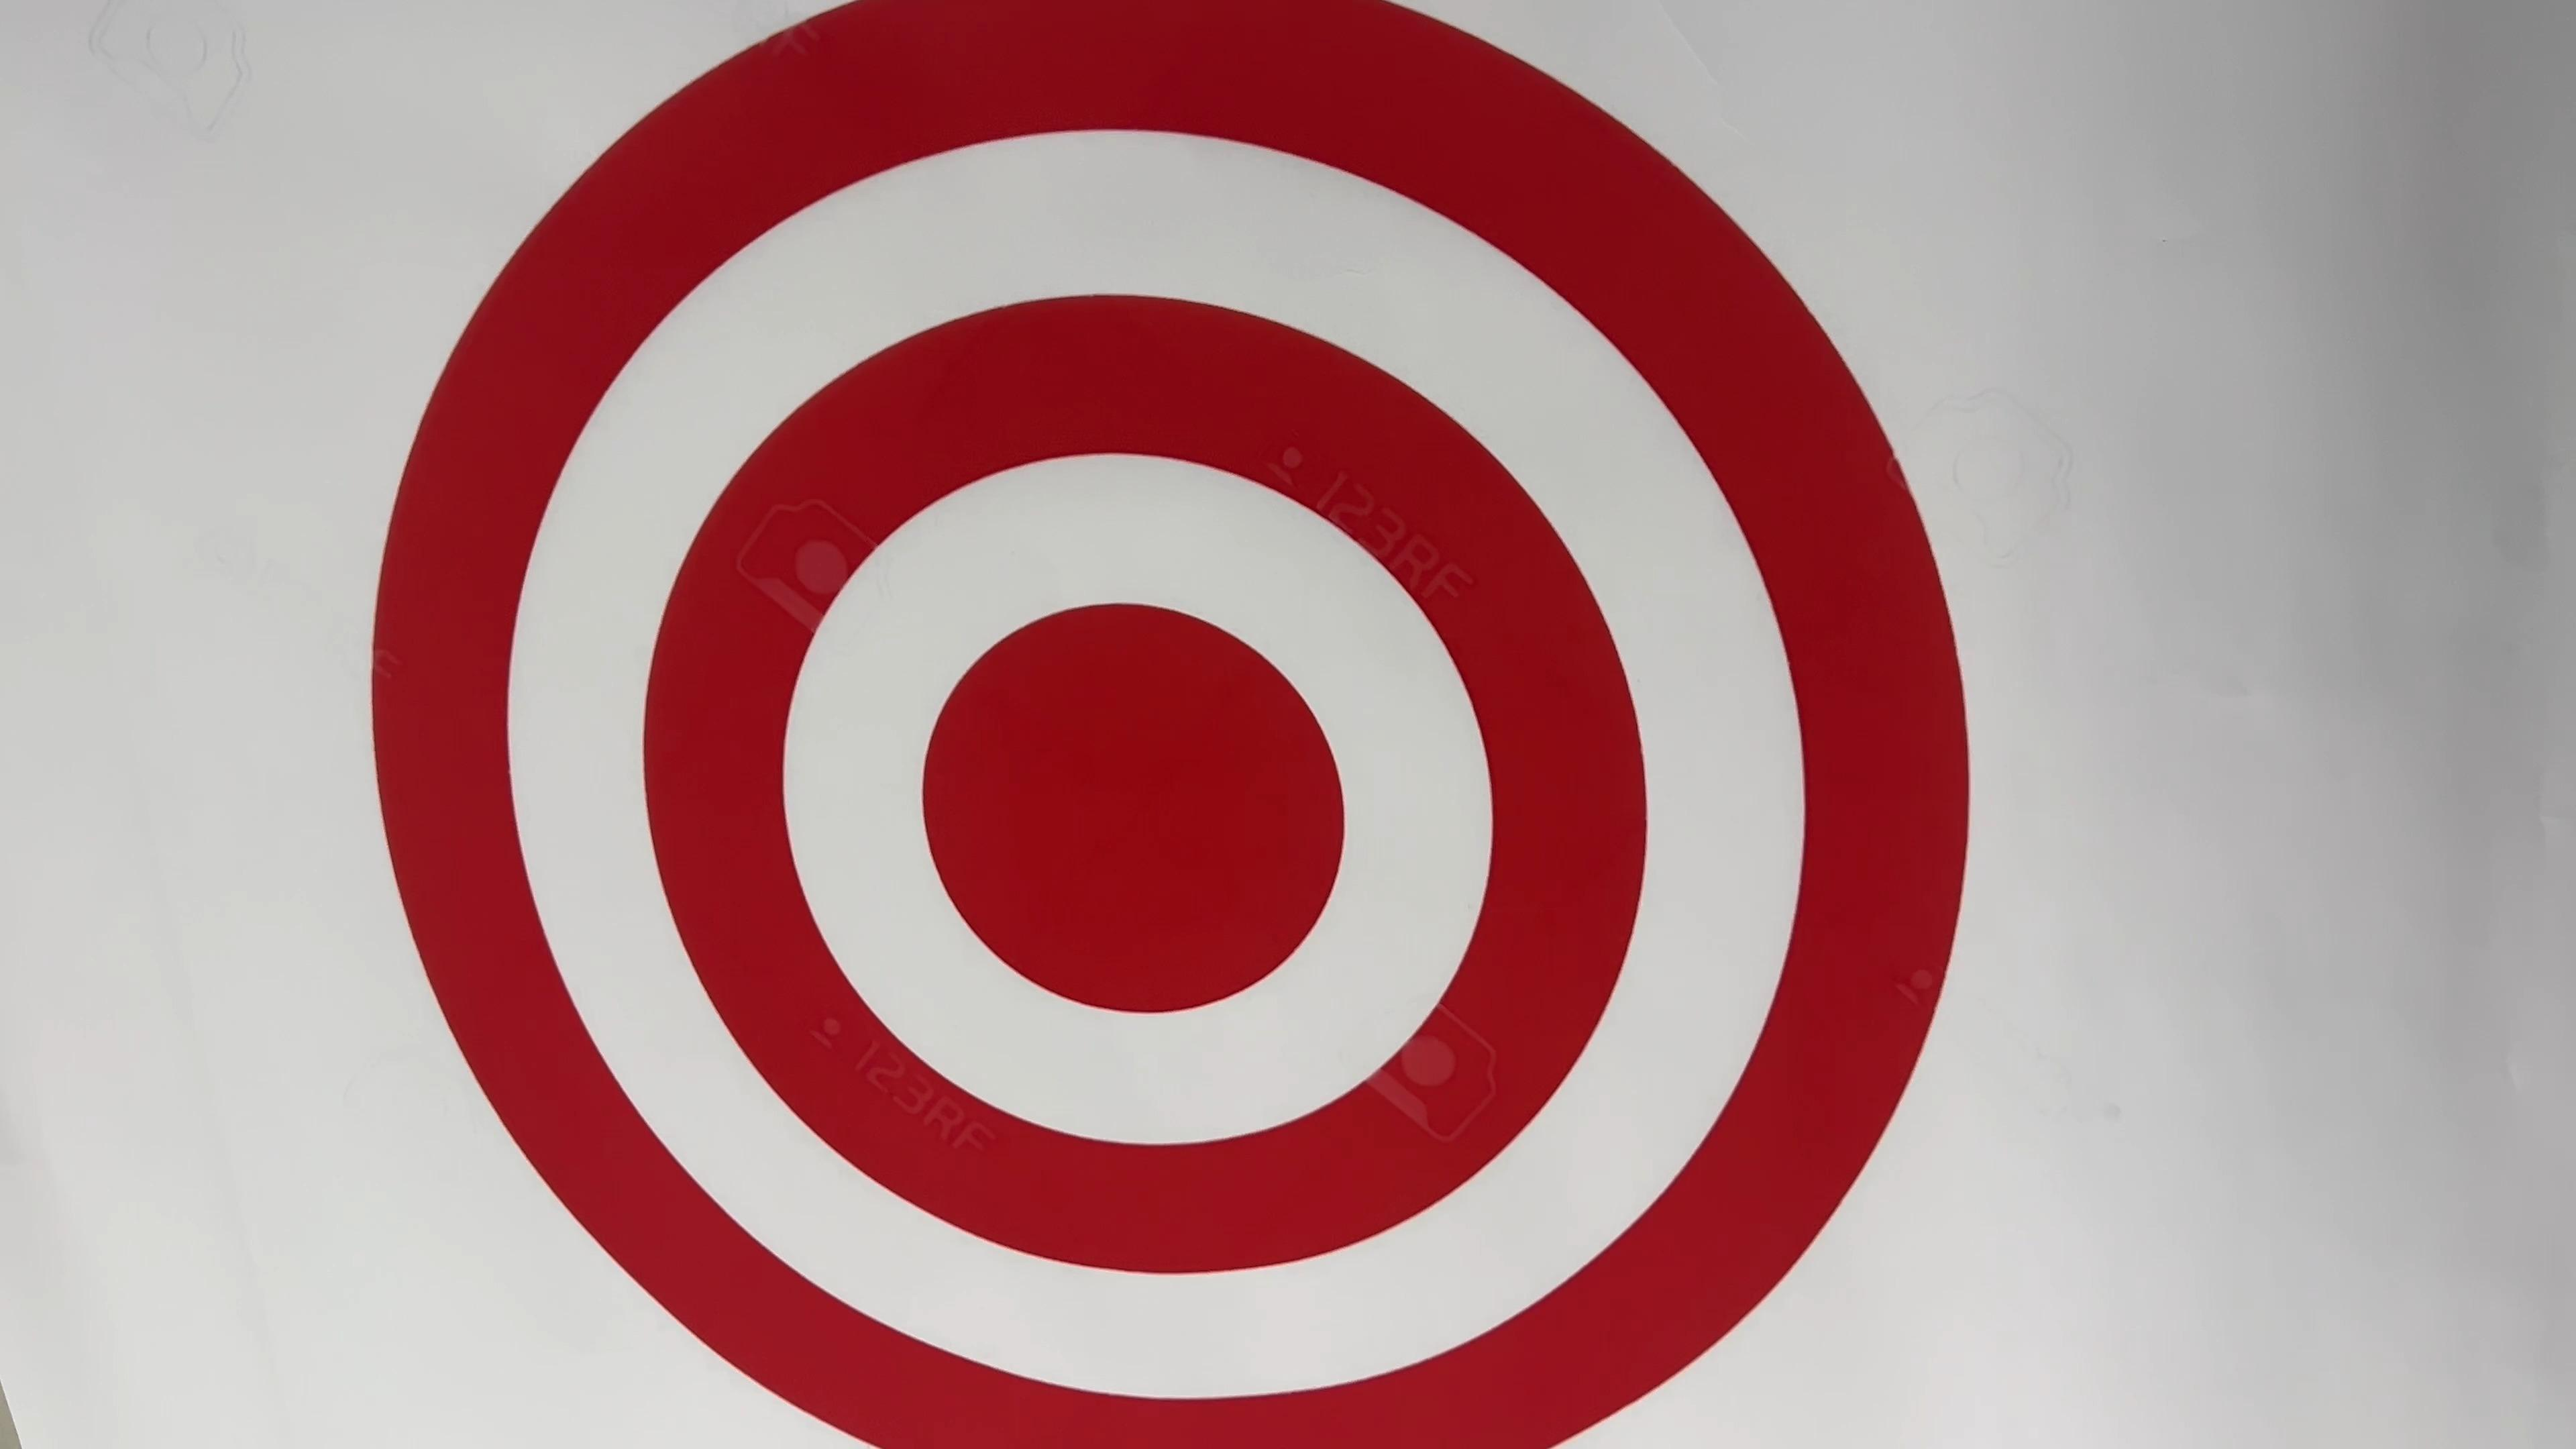target_red: (343, 5, 1978, 1449)
